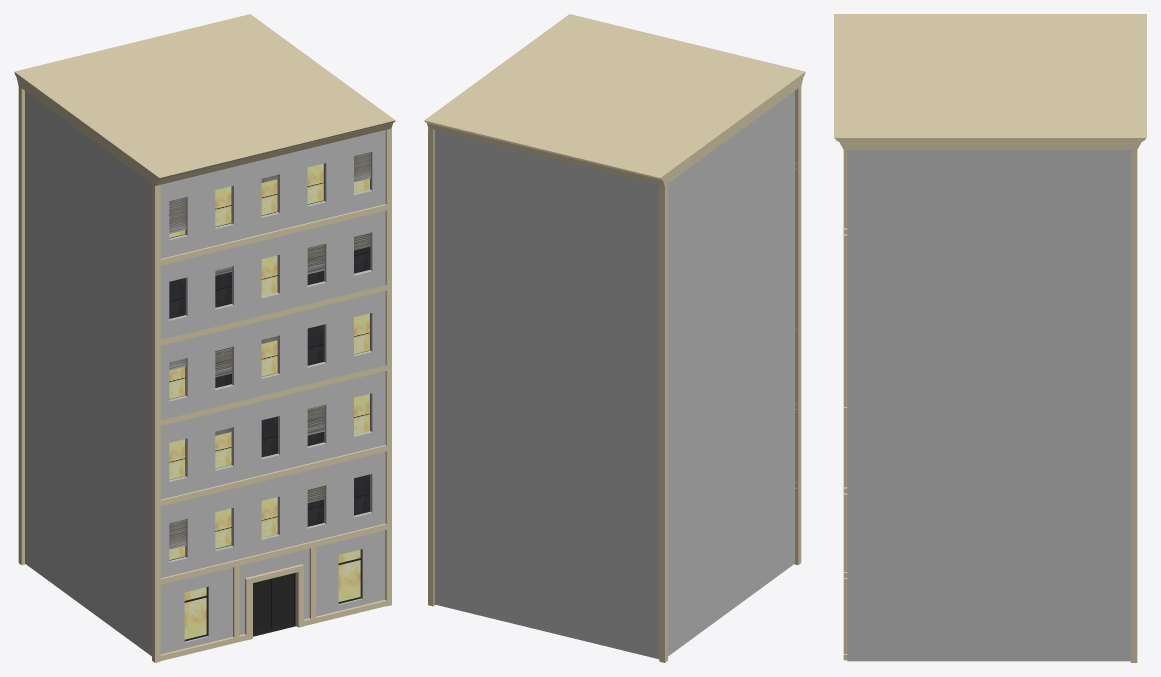
File: Bloc_031F.fbx
The picture shows the model from 3 angles, left to right: view 1: azimuth 30°, elevation 25°; view 2: azimuth 150°, elevation 25°; view 3: azimuth 270°, elevation 25°; orthographic projection. The views are drawn at different scales.
Visible parts, largest first — view 1: Bloc_31F; view 2: Bloc_31F; view 3: Bloc_31F.
Boxes of the visible parts, bbox=[...] form: Bloc_31F: bbox=[14, 14, 395, 662]; Bloc_31F: bbox=[424, 14, 805, 662]; Bloc_31F: bbox=[834, 14, 1146, 662].
Size of the model in its own units: 982 by 1818 by 923.
